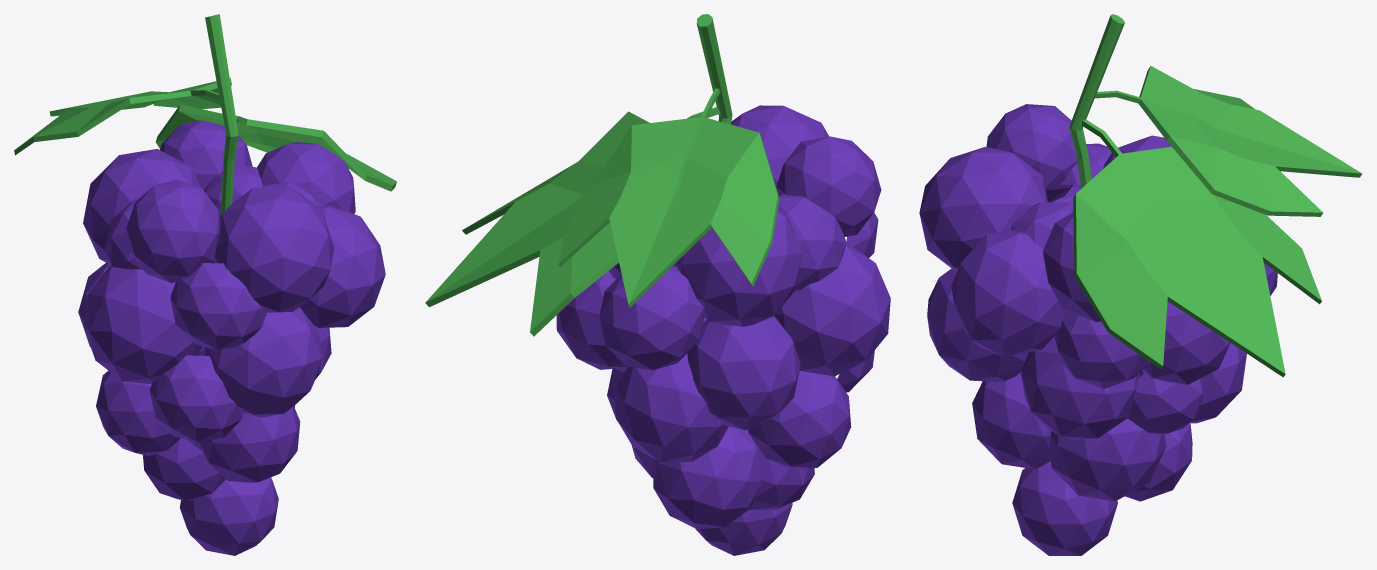
The model's file is Grapes-transformed.glb.
3 renders of one model, left to right at view 1: azimuth 30°, elevation 25°; view 2: azimuth 150°, elevation 25°; view 3: azimuth 270°, elevation 25°, orthographic. The views are drawn at different scales.
Visible parts, largest first — view 1: Icosphere.015_Icosphere.018; view 2: Icosphere.015_Icosphere.018; view 3: Icosphere.015_Icosphere.018.
Part boxes in pixels (x1,y1,x2,y2): Icosphere.015_Icosphere.018: (14, 14, 396, 555); Icosphere.015_Icosphere.018: (425, 14, 890, 555); Icosphere.015_Icosphere.018: (919, 14, 1362, 555).
Bounding box in the file's own units: 6.95 × 9.84 × 7.28.
